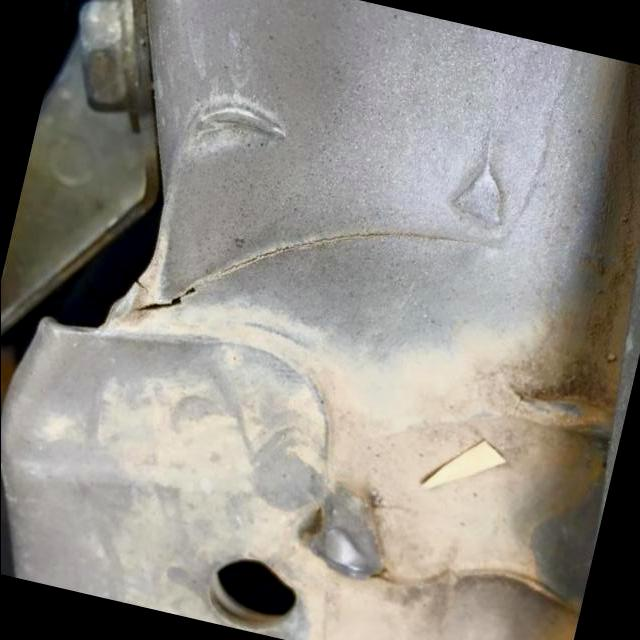defect: (132, 230, 519, 315), (136, 279, 152, 296)
